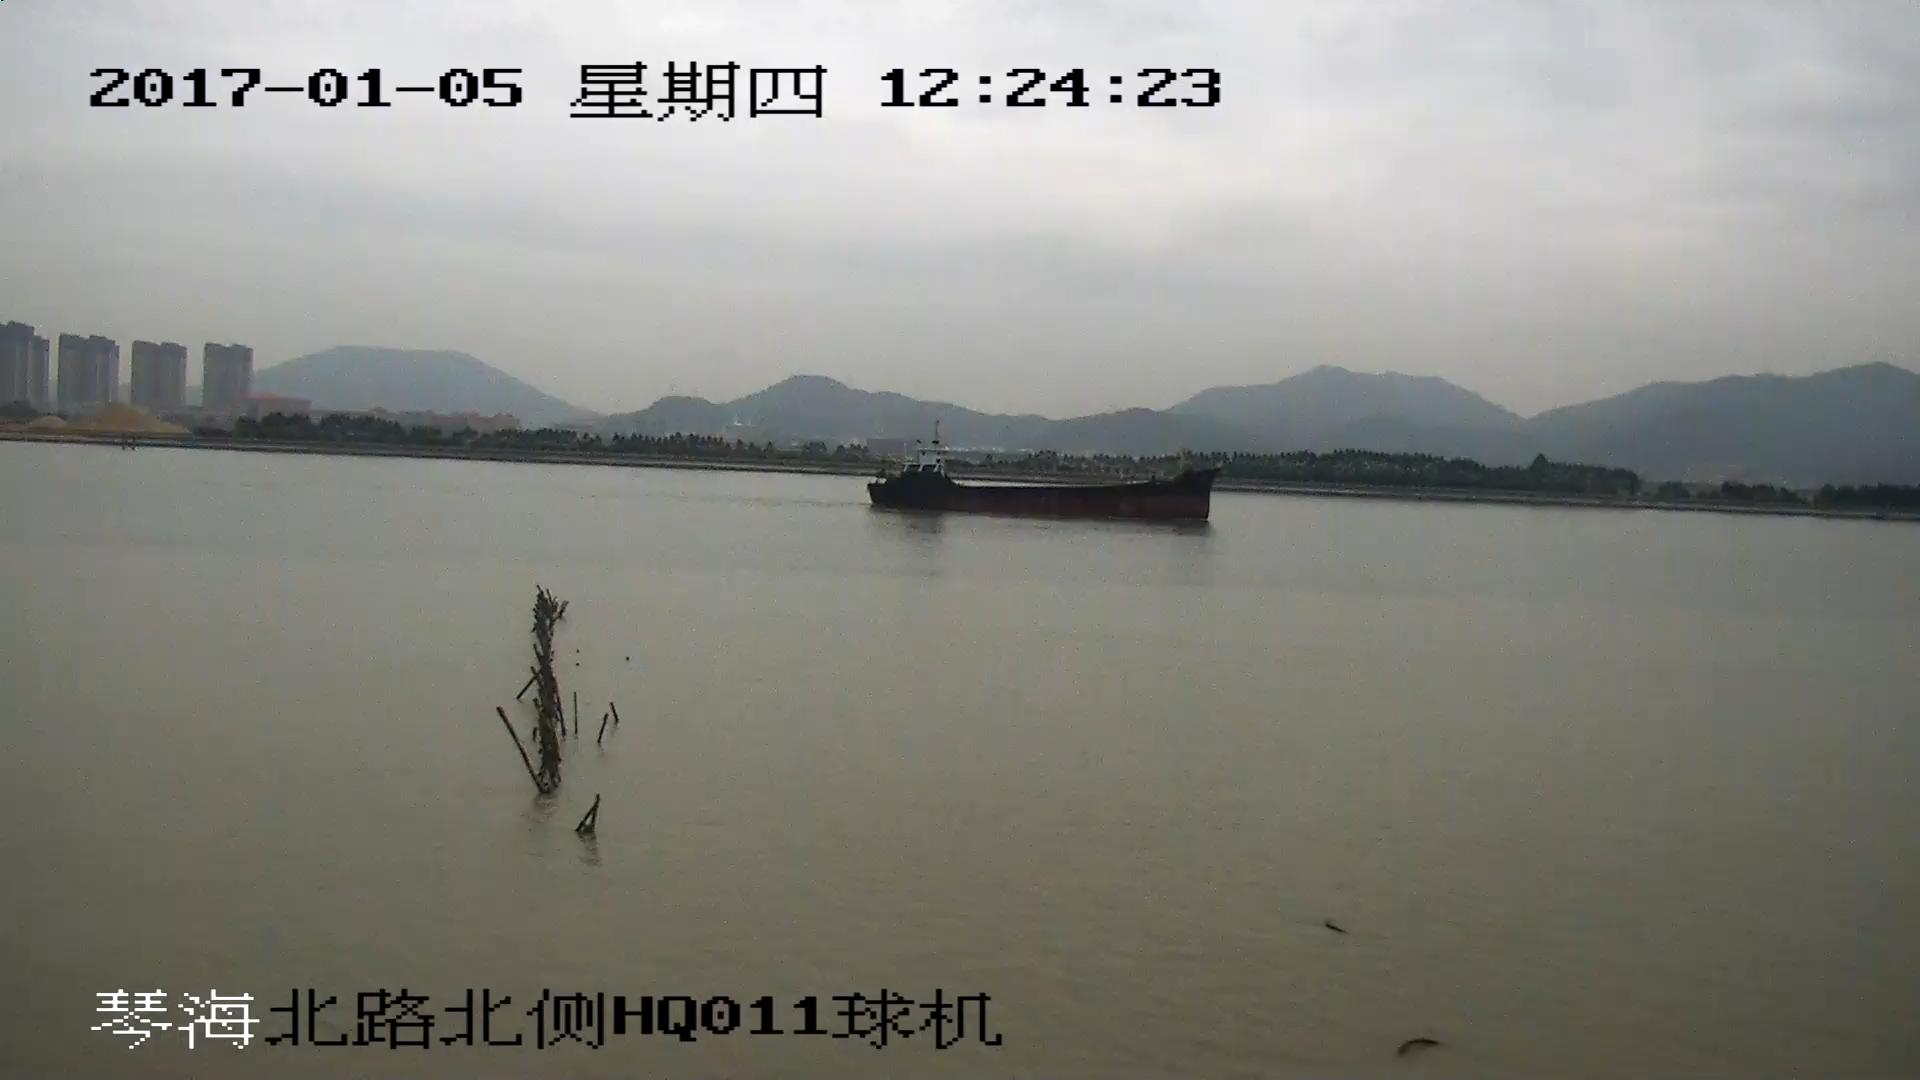general cargo ship: (867, 445, 1217, 520)
